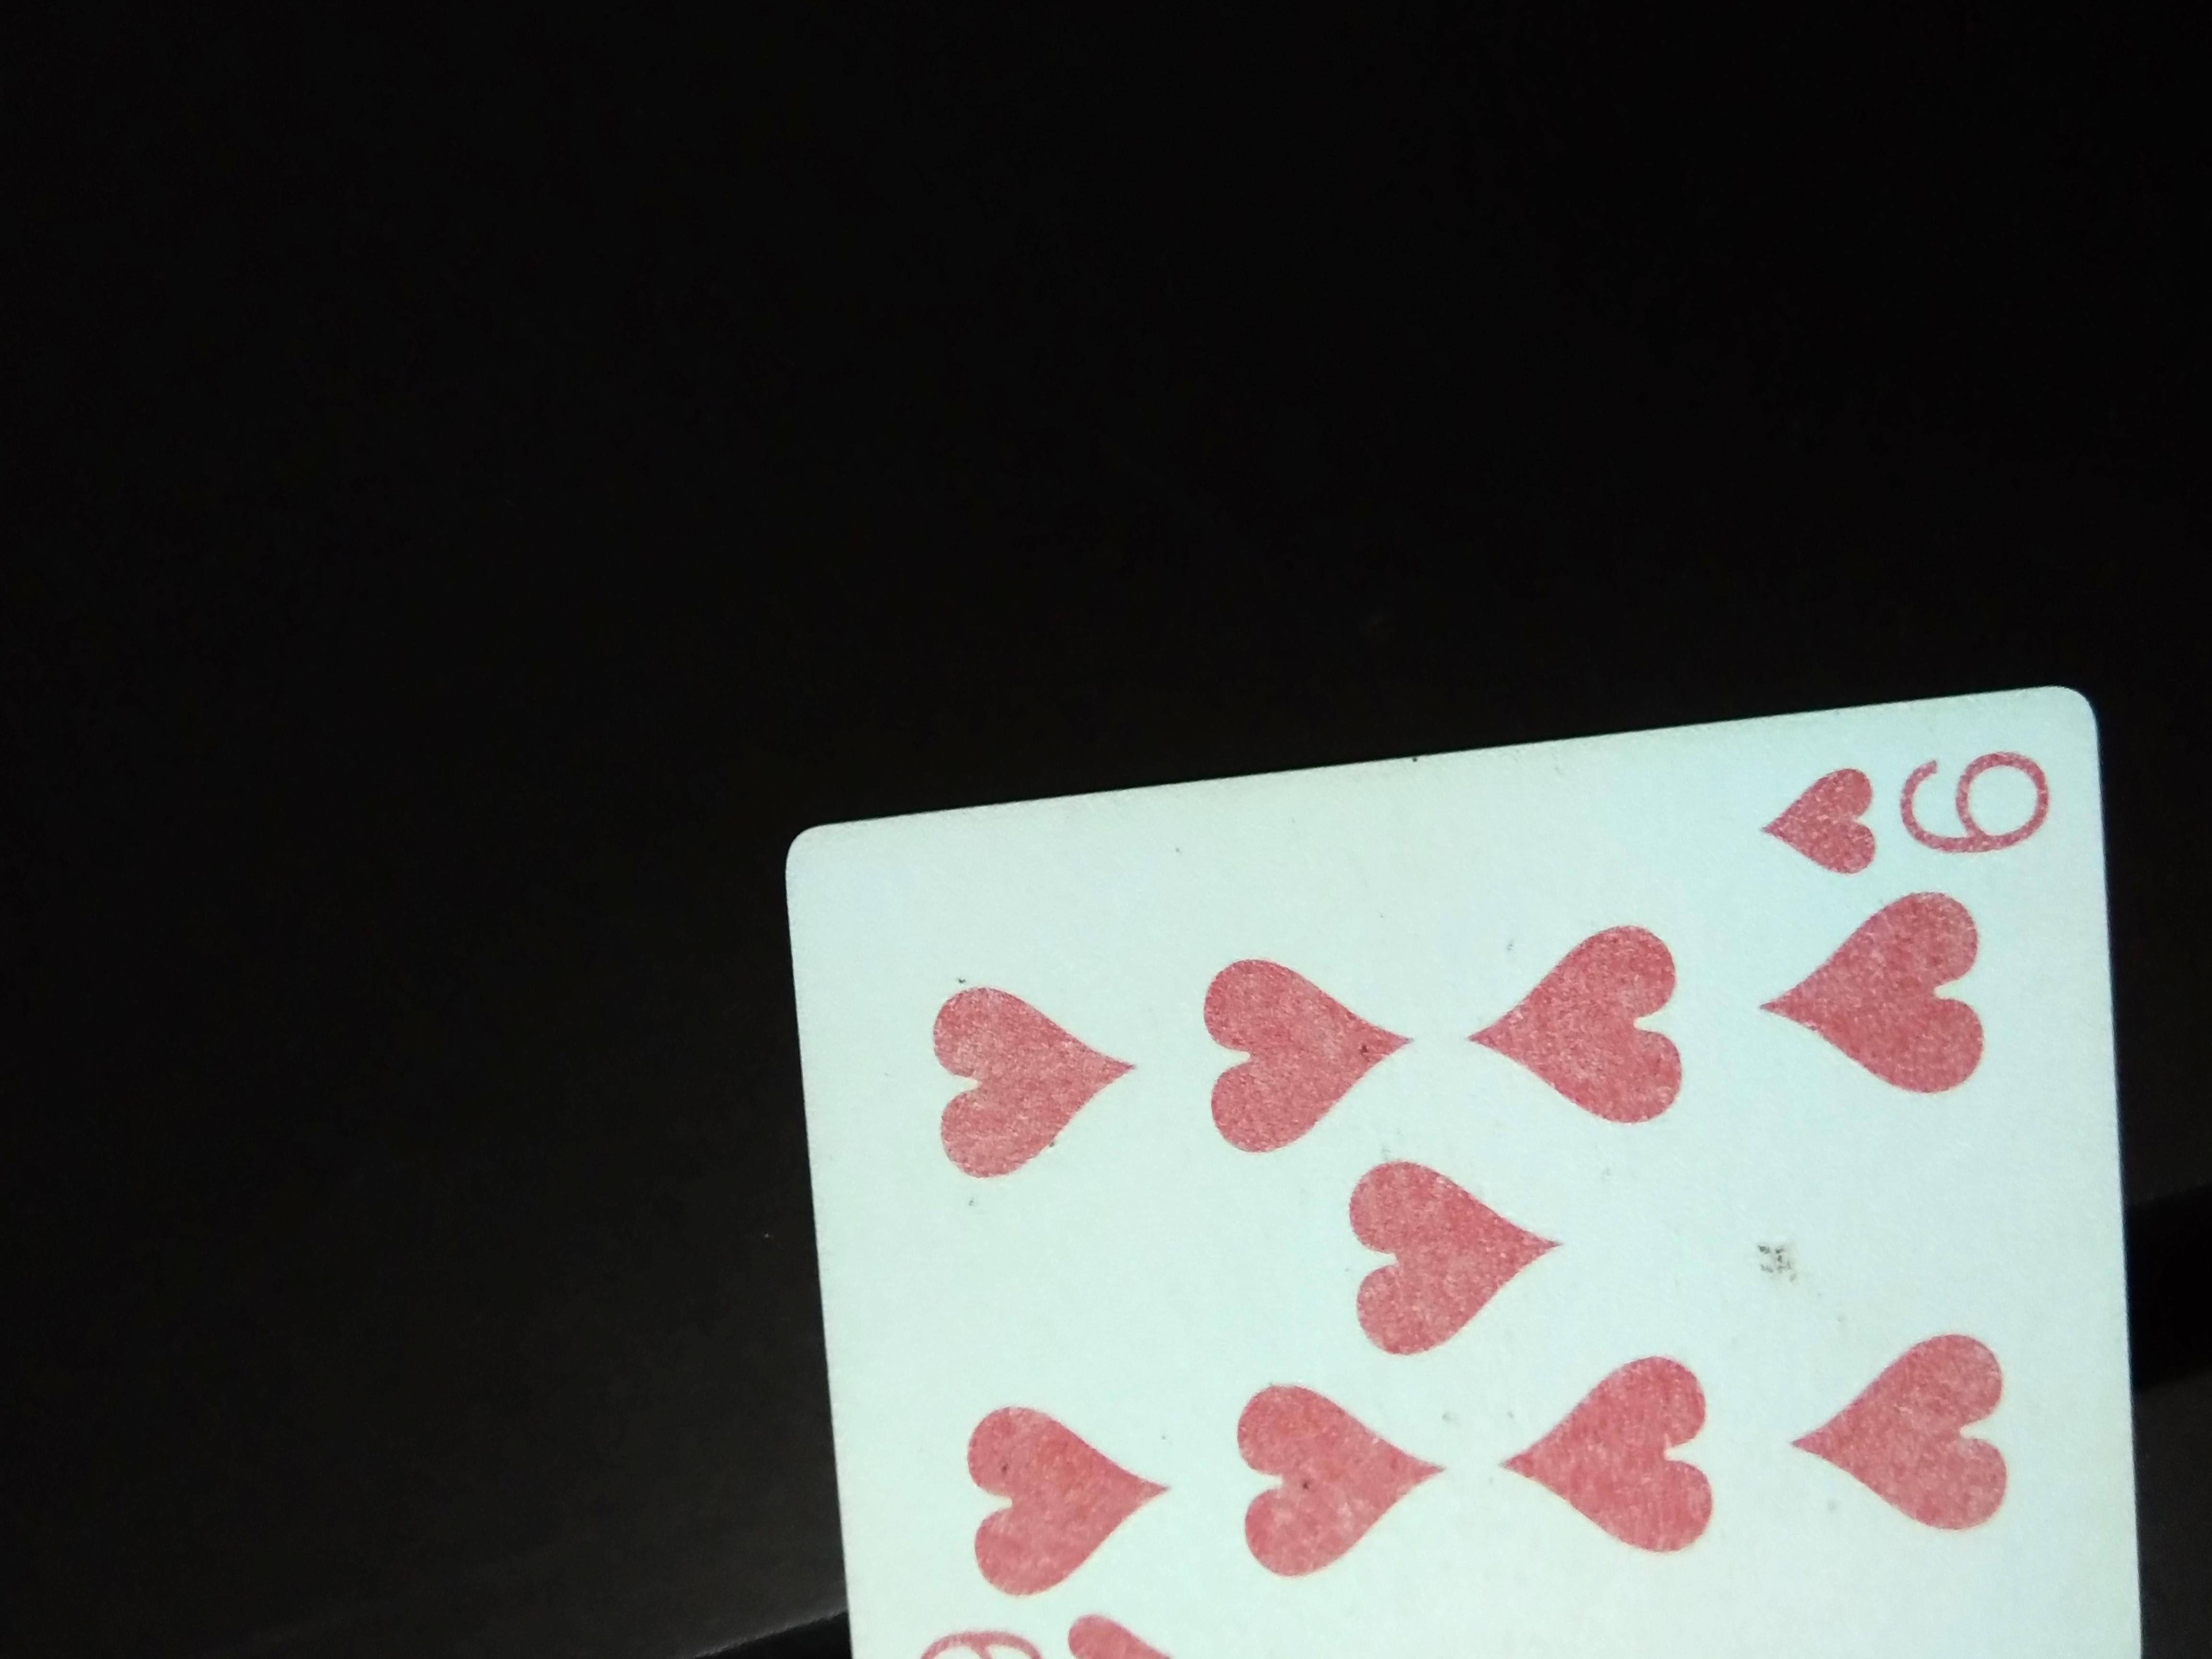9H: (1724, 739, 2066, 899)
